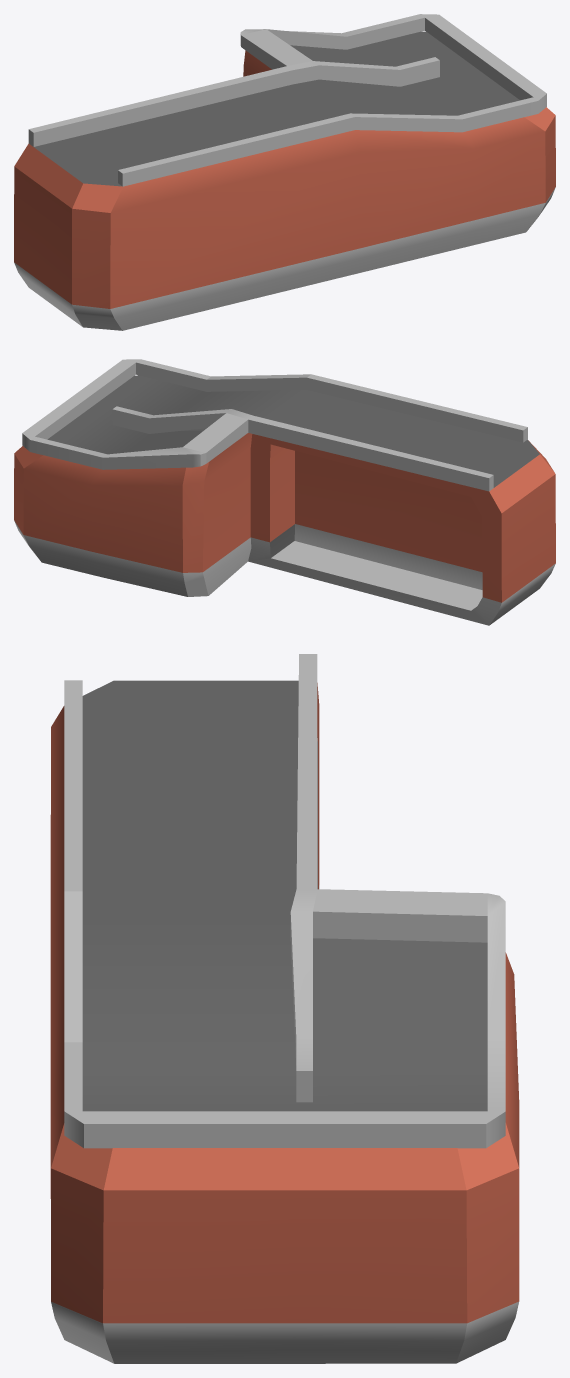
File: Cass_Soft.fbx
3 views of the same model, one above another, from view 1: azimuth 30°, elevation 25°; view 2: azimuth 150°, elevation 25°; view 3: azimuth 270°, elevation 25° (orthographic). The views are drawn at different scales.
Parts seen in each view (by area): view 1: Cass1; view 2: Cass1; view 3: Cass1.
Part boxes in pixels (<box>): Cass1: <box>14,14,555,330</box>; Cass1: <box>14,359,555,625</box>; Cass1: <box>50,654,519,1363</box>.
Bounding box in the file's own units: 348 × 109 × 157.
